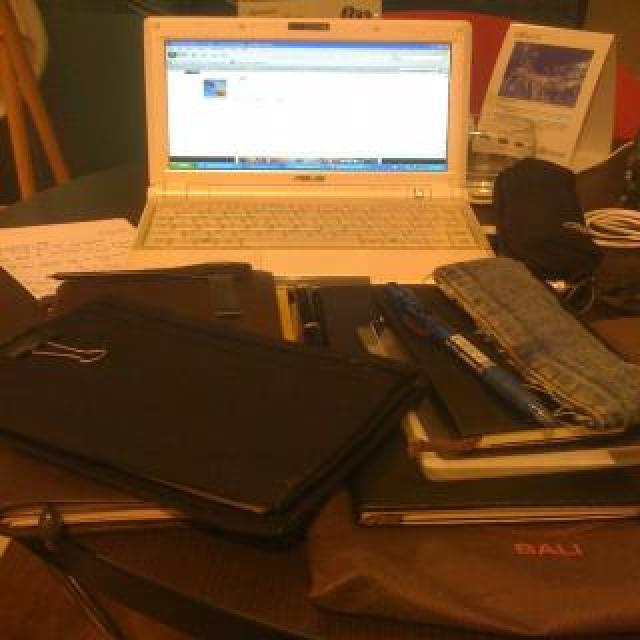laptop_computer: (130, 11, 513, 274)
